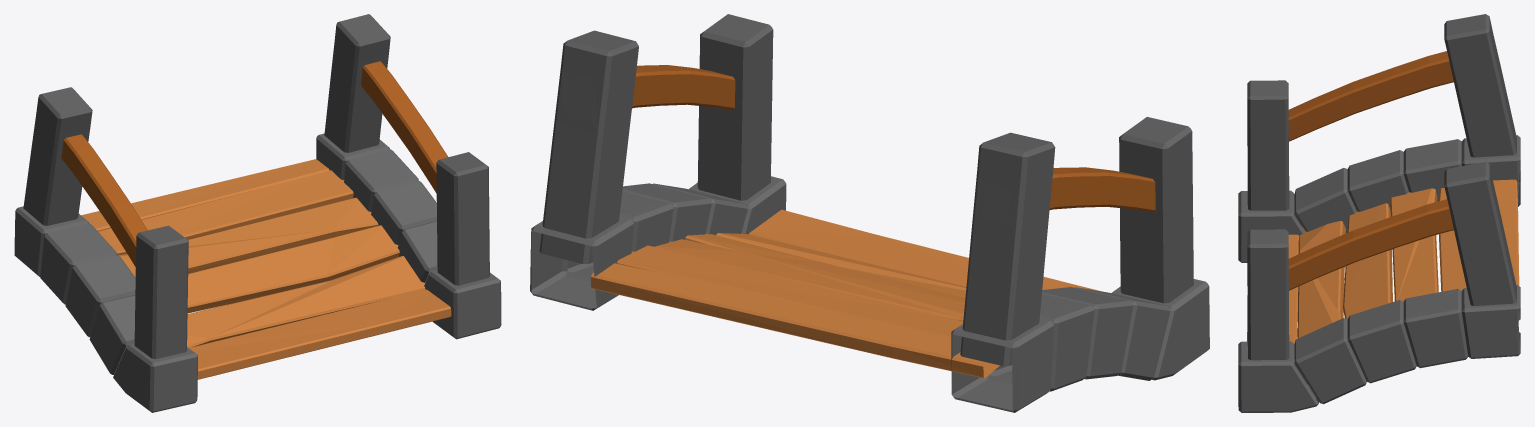
The model's file is Bridge.fbx.
3 views of the same model, side by side, from view 1: azimuth 30°, elevation 25°; view 2: azimuth 150°, elevation 25°; view 3: azimuth 270°, elevation 25° (orthographic). The views are drawn at different scales.
Parts seen in each view (by area): view 1: Bridge_1; view 2: Bridge_1; view 3: Bridge_1.
Part boxes in pixels (x1=…): Bridge_1: x1=14, y1=14, x2=501, y2=412; Bridge_1: x1=530, y1=14, x2=1209, y2=412; Bridge_1: x1=1238, y1=14, x2=1520, y2=412.
Bounding box in the file's own units: 5.95 × 3.7 × 4.08.
